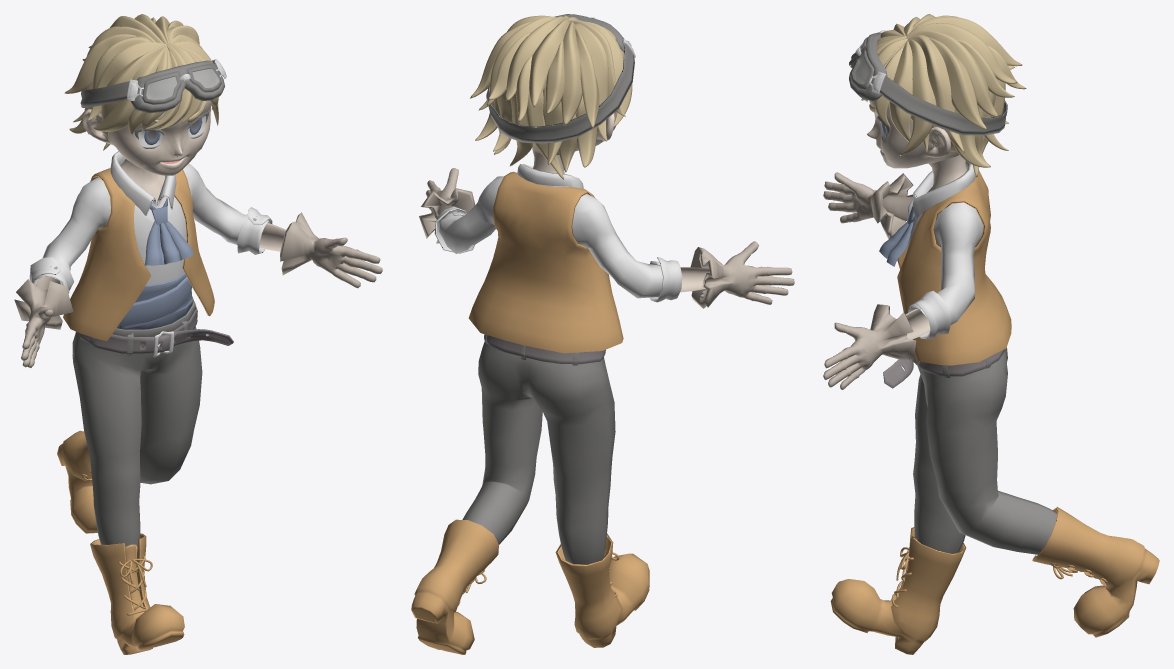
The model's file is Shun_V1.fbx.
The picture shows the model from 3 angles, left to right: view 1: azimuth 30°, elevation 25°; view 2: azimuth 150°, elevation 25°; view 3: azimuth 270°, elevation 25°; orthographic projection. The views are drawn at different scales.
Visible parts, largest first — view 1: ClothA12, Boots6, GoZ_Hair:Group2, Head, GoggleA1, BeltA, ScarfA, GogglesE1, Neck; view 2: Boots6, ClothA12, GoZ_Hair:Group2, GogglesE1, BeltA; view 3: Boots6, ClothA12, GoZ_Hair:Group2, Head, GogglesE1, GoggleA1, BeltA, Neck, ScarfA.
Boxes of the visible parts, x1,y1,x2,y2 form: ClothA12: [14, 151, 382, 367]; Boots6: [57, 297, 202, 654]; GoZ_Hair:Group2: [64, 14, 218, 150]; Head: [82, 100, 211, 175]; GoggleA1: [130, 60, 224, 113]; BeltA: [79, 296, 233, 353]; ScarfA: [144, 221, 193, 265]; GogglesE1: [80, 60, 214, 107]; Neck: [120, 159, 165, 205]; Boots6: [411, 341, 649, 654]; ClothA12: [419, 164, 794, 353]; GoZ_Hair:Group2: [469, 15, 632, 179]; GogglesE1: [486, 43, 634, 143]; BeltA: [484, 334, 605, 364]; Boots6: [830, 347, 1159, 654]; ClothA12: [823, 161, 1011, 389]; GoZ_Hair:Group2: [861, 14, 1026, 177]; Head: [867, 100, 959, 168]; GogglesE1: [879, 75, 1007, 135]; GoggleA1: [849, 32, 887, 100]; BeltA: [883, 349, 1004, 388]; Neck: [927, 155, 967, 192]; ScarfA: [879, 221, 913, 266].
Bounding box in the file's own units: 15.57 × 25.36 × 12.01.
